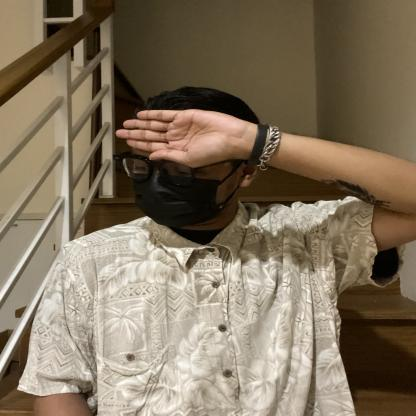Sick: (80, 84, 297, 207)
